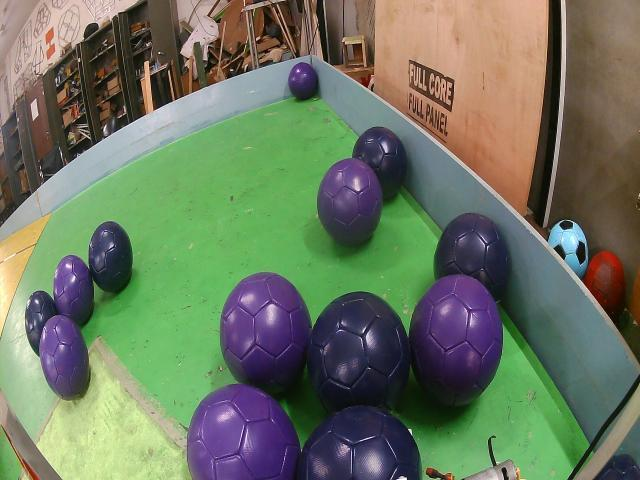jambhalya: (409, 275, 502, 407), (220, 272, 311, 393), (188, 383, 300, 480), (318, 158, 382, 245), (39, 315, 90, 400), (54, 255, 94, 325), (289, 62, 318, 100)
kaalyya: (308, 292, 410, 412), (298, 405, 421, 480), (434, 213, 510, 302), (352, 127, 408, 198), (89, 222, 132, 292), (25, 290, 58, 355), (595, 453, 640, 480)
